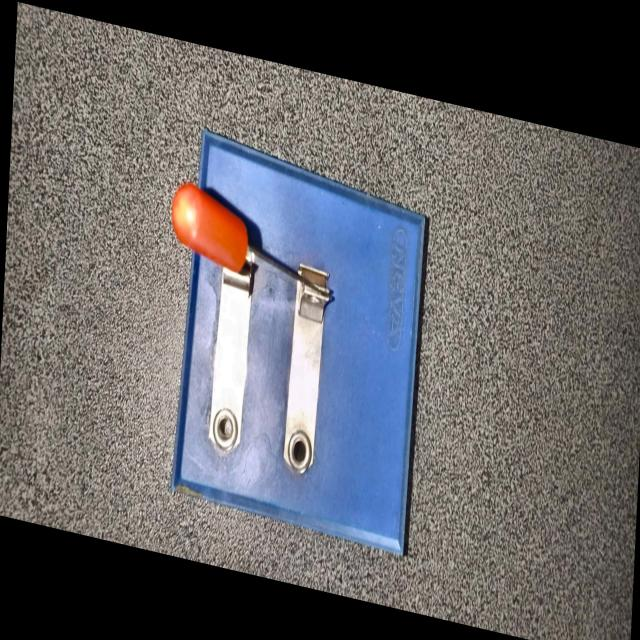L Switch: (146, 107, 446, 582)
